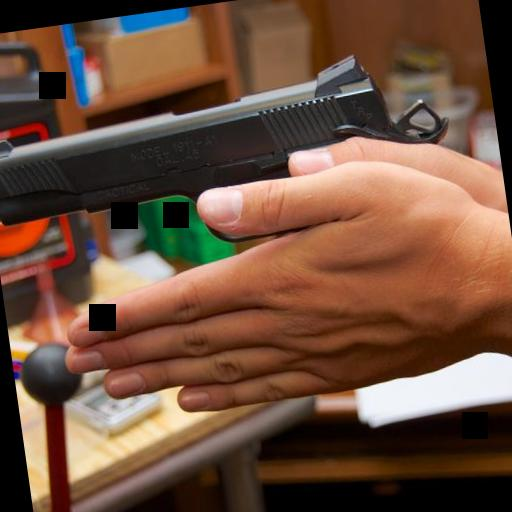Handgun: (0, 38, 466, 293)
